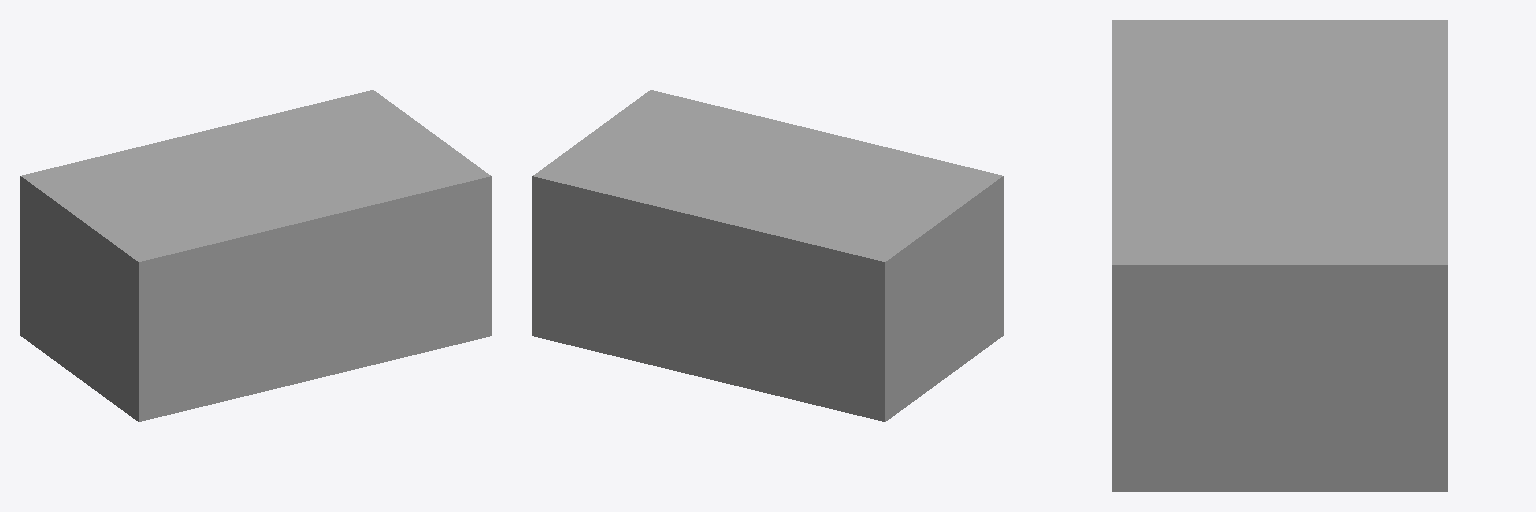
The robot description file, URDF, robot "simple_box_robot":
<?xml version="1.0"?>
<robot name="simple_box_robot">
  <link name="base_link">
    <visual>
      <origin xyz="0.079 0.0 0.0" rpy="0 0 0"/>
      <geometry>
        <box size="0.3 0.174 0.13"/>
      </geometry>
      <material name="gray">
        <color rgba="0.7 0.7 0.7 1"/>
      </material>
    </visual>
    <collision>
      <origin xyz="0.079 0.0 0.0" rpy="0 0 0"/>
      <geometry>
        <box size="0.3 0.174 0.13"/>
      </geometry>
    </collision>
    <inertial>
      <origin xyz="0.079 0.0 0.0" rpy="0 0 0"/>
      <mass value="3.0"/>
      <inertia ixx="0.01" ixy="0.0" ixz="0.0" iyy="0.02" iyz="0.0" izz="0.03"/>
    </inertial>
  </link>
</robot>

--- Render facts (derived) ---
Views: 3 orthographic renders of the robot side by side, from view 1: azimuth 30°, elevation 25°; view 2: azimuth 150°, elevation 25°; view 3: azimuth 270°, elevation 25°.
Robot: simple_box_robot — 1 links, 0 joints (none); root link base_link; default pose: every joint at zero.
Links seen in each view (by area): view 1: base_link; view 2: base_link; view 3: base_link.
Link boxes in pixels (<box>): base_link: <box>20,90,491,421</box>; base_link: <box>532,90,1003,421</box>; base_link: <box>1112,20,1447,491</box>.
Size in the robot's own frame: 0.3 by 0.174 by 0.13 metres.
Geometry: primitives only (box / cylinder / sphere), no mesh files.
